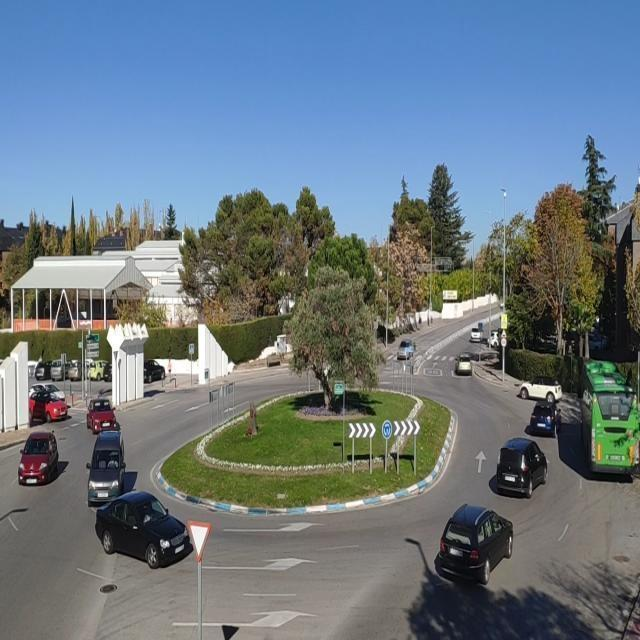Bus: (579, 357, 640, 477)
Car: (95, 491, 190, 570), (434, 504, 514, 586), (495, 439, 548, 497), (85, 433, 127, 503), (18, 431, 59, 485), (28, 389, 69, 422), (519, 375, 564, 403), (528, 400, 562, 436), (85, 398, 118, 434), (28, 383, 66, 401), (143, 359, 166, 383), (67, 359, 91, 381), (85, 359, 109, 381), (50, 360, 73, 380), (398, 340, 417, 361), (589, 332, 608, 352), (455, 354, 472, 375), (34, 362, 52, 381), (102, 361, 113, 383), (489, 330, 501, 348), (470, 327, 483, 342)
